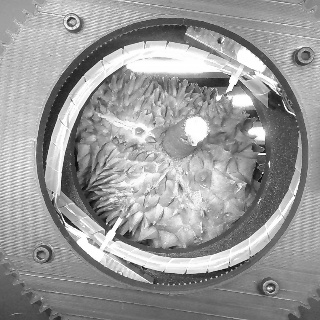base: (152, 124, 196, 167)
end: (183, 115, 209, 147)
